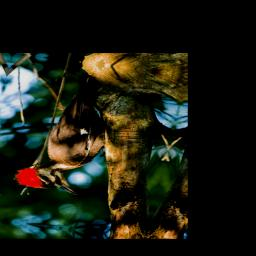Woodpecker: (12, 68, 130, 200)
